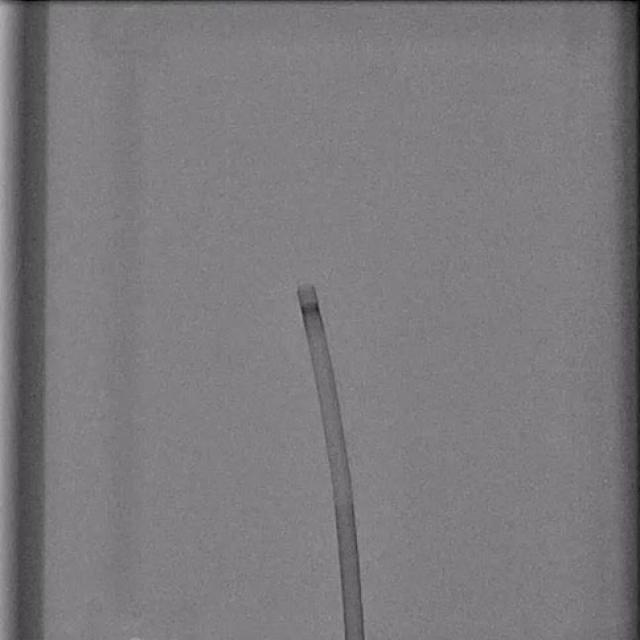bend: (333, 489, 354, 504)
entry: (346, 636, 364, 640)
marker: (300, 301, 321, 316)
tip: (298, 284, 314, 290)
